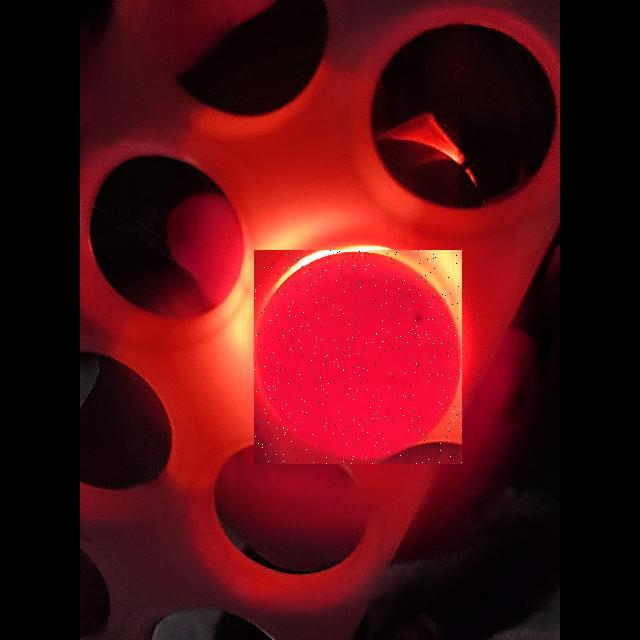Infertile: (254, 250, 462, 464)
